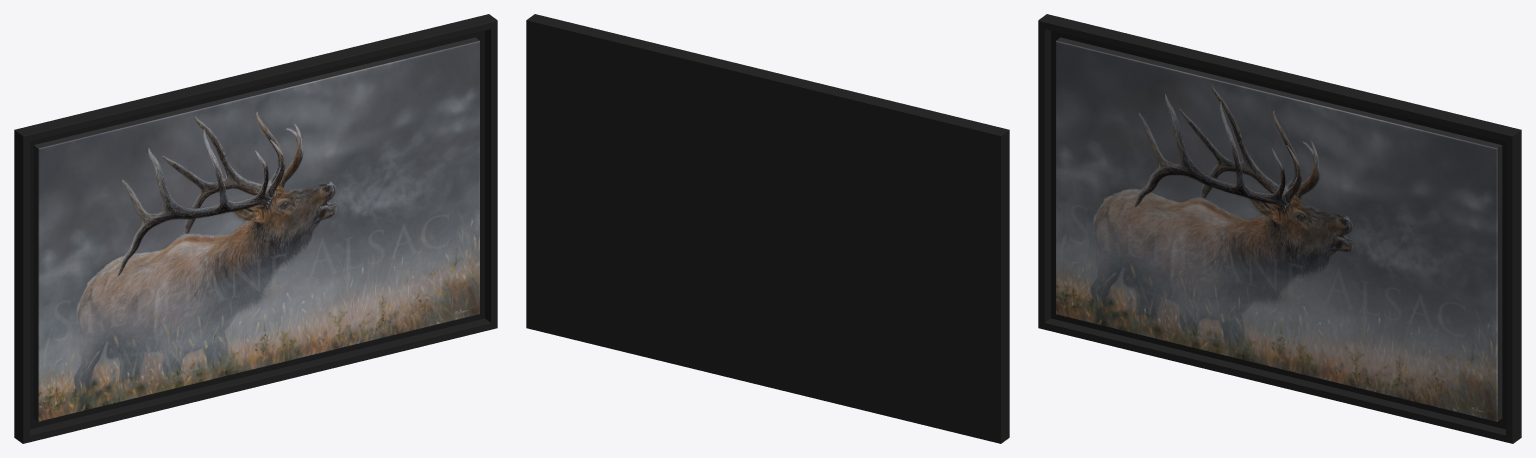
Rendered from tableau-wapiti-grand-b8d41ef7.glb.
3 views of the same model, side by side, from view 1: azimuth 30°, elevation 25°; view 2: azimuth 150°, elevation 25°; view 3: azimuth 330°, elevation 25° (orthographic).
Parts seen in each view (by area): view 1: Painting; view 2: Painting; view 3: Painting.
Part boxes in pixels (x1,y1,x2,y2): Painting: (14, 14, 497, 443); Painting: (526, 14, 1009, 443); Painting: (1038, 14, 1521, 443).
Size of the model in its own units: 1.24 by 0.766 by 0.04.
4 materials, 2 textured.
